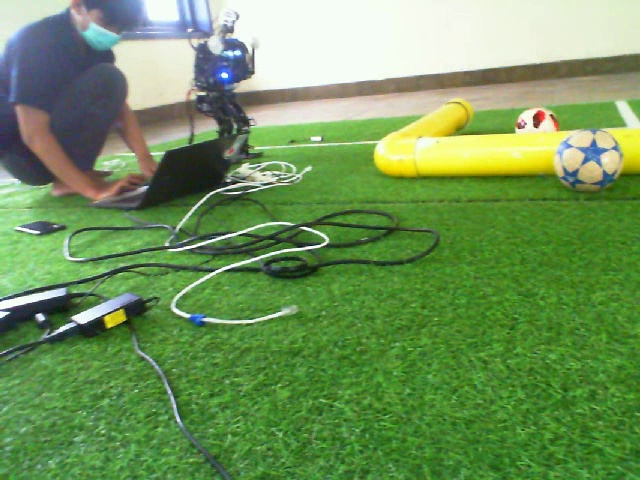ball: (552, 126, 626, 193), (516, 104, 552, 132)
